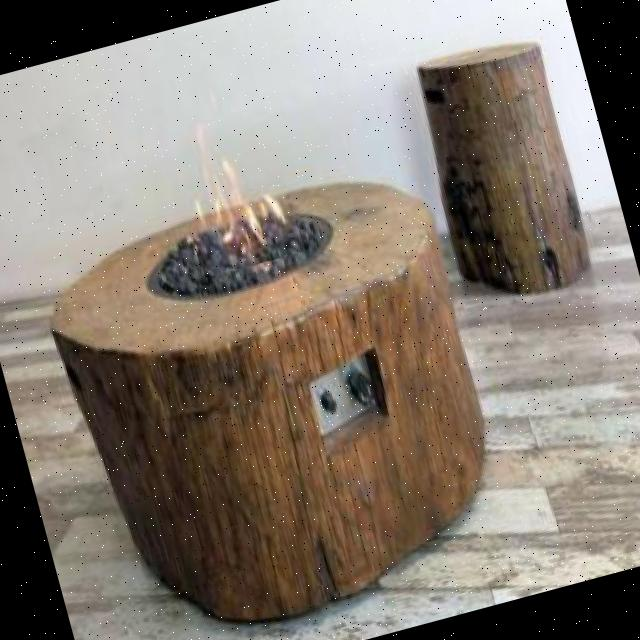fire: (166, 104, 304, 277)
